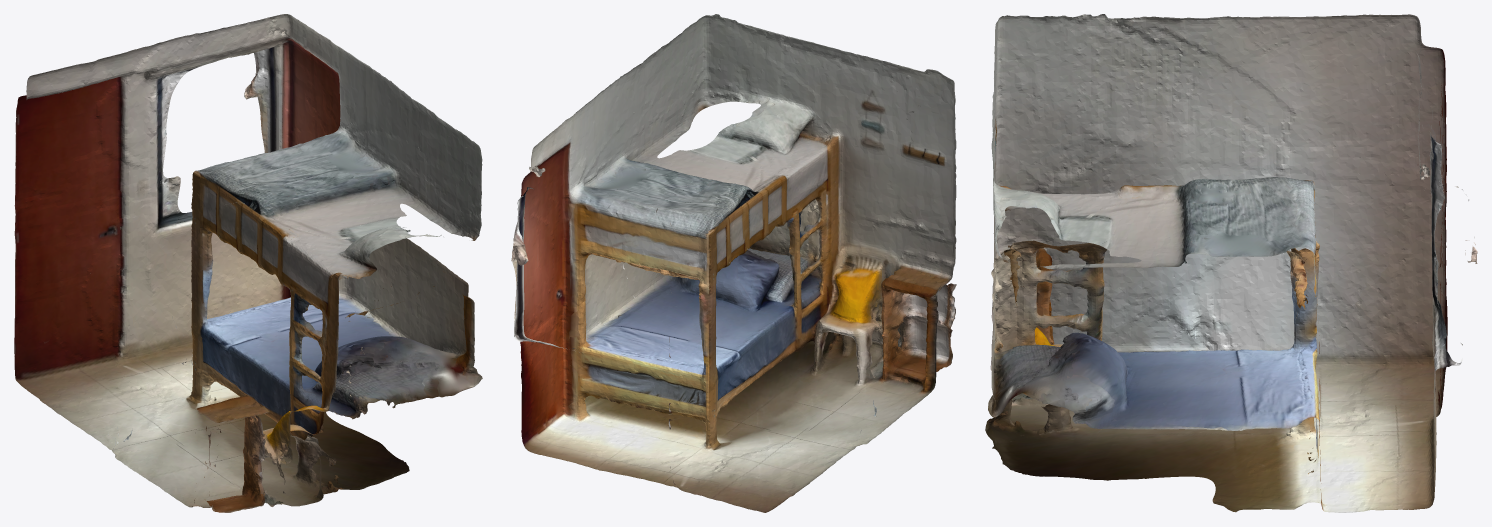
File: tercer.glb
3 renders of one model, left to right at view 1: azimuth 30°, elevation 25°; view 2: azimuth 150°, elevation 25°; view 3: azimuth 270°, elevation 25°, orthographic. The views are drawn at different scales.
Size of the model in its own units: 2.25 by 2.51 by 3.09.
2 materials, 2 textured.
